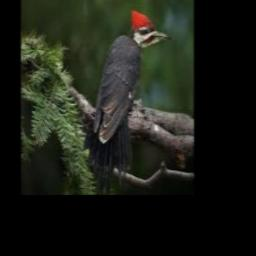Woodpecker: (84, 8, 170, 194)
